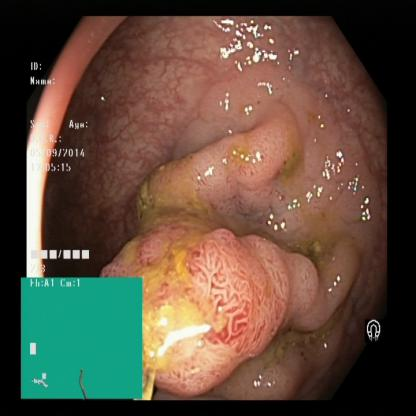Labels: (24, 51, 99, 276), (20, 278, 144, 401), (354, 307, 390, 350)
Polyps: (147, 246, 301, 384), (221, 124, 296, 190)
